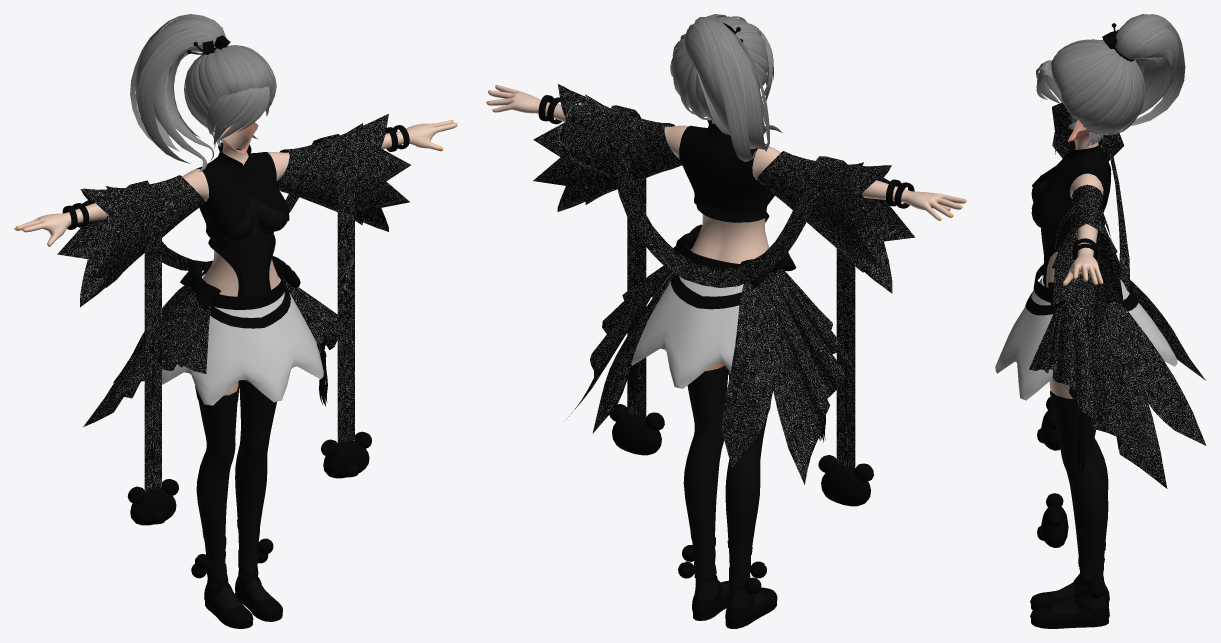
File: Ms_M_TLY_003.fbx
3 renders of one model, left to right at view 1: azimuth 30°, elevation 25°; view 2: azimuth 150°, elevation 25°; view 3: azimuth 270°, elevation 25°, orthographic. The views are drawn at different scales.
Parts seen in each view (by area): view 1: Ms_M_TLY_003_cloth, Ms_M_TLY_003_hair, Ms_M_TLY_003_cloth_back, Ms_M_TLY_003_Skirt, Ms_M_TLY_003_skin, Ms_M_TLY_003_Skirt_back; view 2: Ms_M_TLY_003_cloth, Ms_M_TLY_003_cloth_back, Ms_M_TLY_003_hair, Ms_M_TLY_003_Skirt, Ms_M_TLY_003_skin, Ms_M_TLY_003_Skirt_back; view 3: Ms_M_TLY_003_cloth, Ms_M_TLY_003_hair, Ms_M_TLY_003_cloth_back, Ms_M_TLY_003_Skirt, Ms_M_TLY_003_skin, Ms_M_TLY_003_Skirt_back.
Part boxes in pixels (x1=…): Ms_M_TLY_003_cloth: x1=57, y1=35, x2=410, y2=628; Ms_M_TLY_003_hair: x1=130, y1=14, x2=276, y2=172; Ms_M_TLY_003_cloth_back: x1=58, y1=115, x2=409, y2=491; Ms_M_TLY_003_Skirt: x1=162, y1=274, x2=323, y2=405; Ms_M_TLY_003_skin: x1=14, y1=120, x2=457, y2=395; Ms_M_TLY_003_Skirt_back: x1=162, y1=274, x2=323, y2=404; Ms_M_TLY_003_cloth: x1=533, y1=23, x2=914, y2=628; Ms_M_TLY_003_cloth_back: x1=534, y1=86, x2=912, y2=480; Ms_M_TLY_003_hair: x1=670, y1=14, x2=782, y2=161; Ms_M_TLY_003_Skirt: x1=631, y1=249, x2=743, y2=388; Ms_M_TLY_003_skin: x1=486, y1=85, x2=966, y2=374; Ms_M_TLY_003_Skirt_back: x1=633, y1=278, x2=742, y2=387; Ms_M_TLY_003_cloth: x1=1025, y1=23, x2=1205, y2=628; Ms_M_TLY_003_hair: x1=1036, y1=14, x2=1185, y2=148; Ms_M_TLY_003_cloth_back: x1=1031, y1=103, x2=1206, y2=482; Ms_M_TLY_003_Skirt: x1=995, y1=275, x2=1177, y2=400; Ms_M_TLY_003_skin: x1=1046, y1=120, x2=1103, y2=398; Ms_M_TLY_003_Skirt_back: x1=996, y1=276, x2=1176, y2=399.
Bounding box in the file's own units: 128 × 160 × 51.71.
